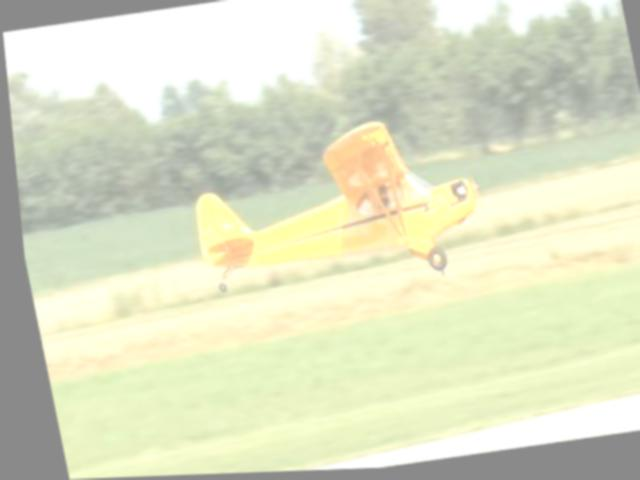uav: (172, 111, 492, 311)
